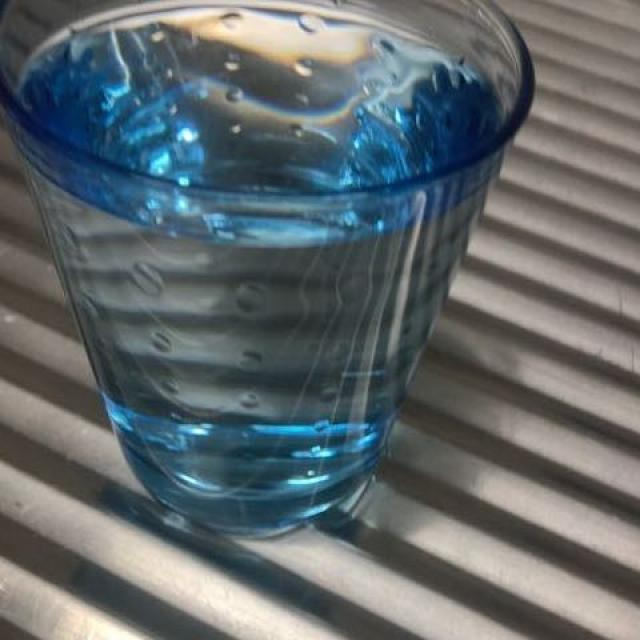water: (23, 30, 498, 519)
